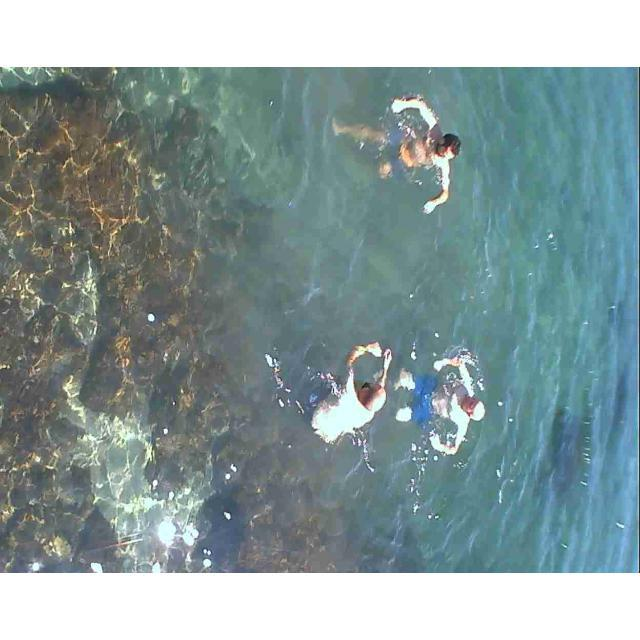human: (362, 93, 457, 219), (402, 334, 483, 458), (306, 337, 387, 455)
